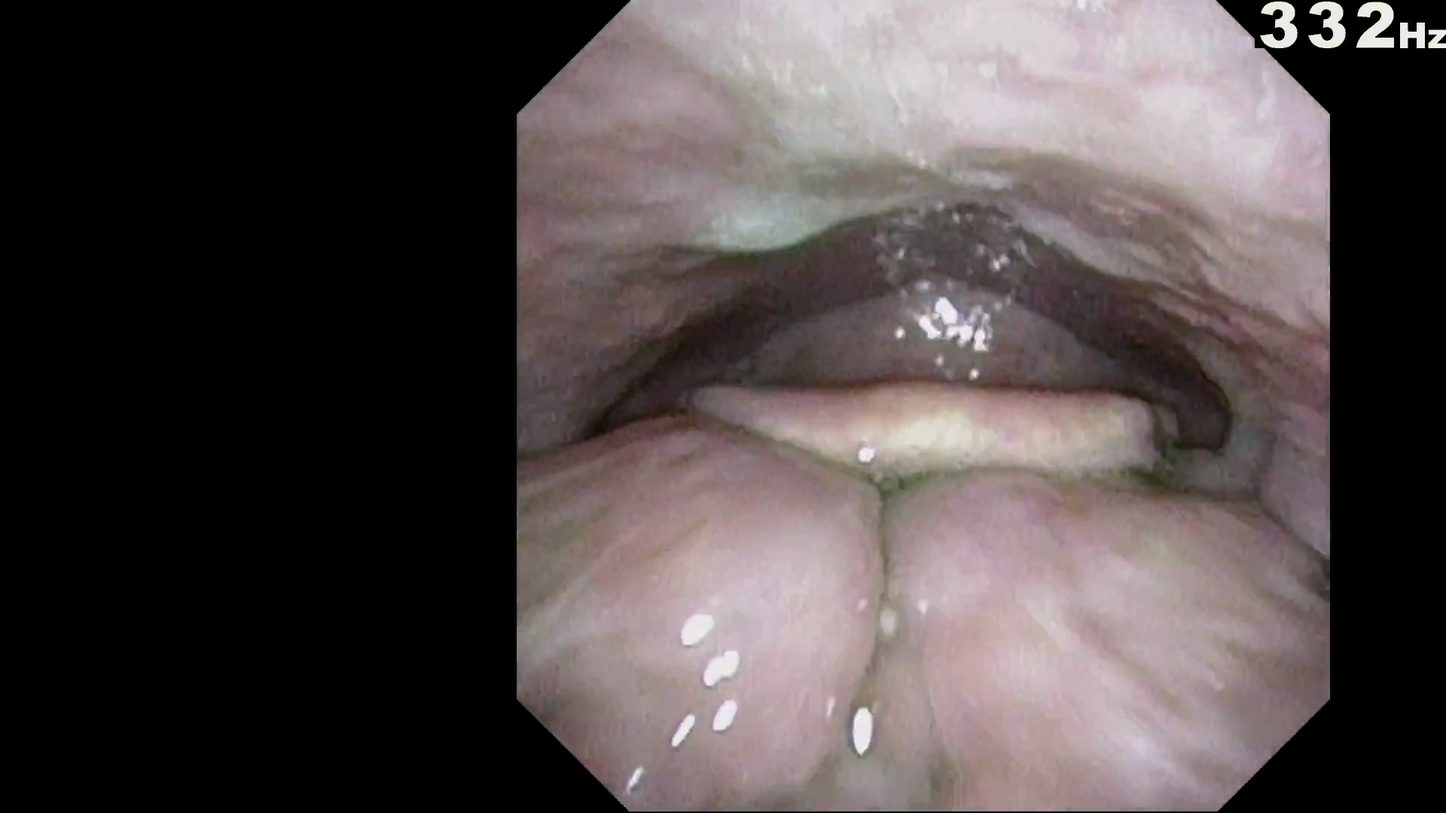epiglottis: (681, 377, 1183, 488)
